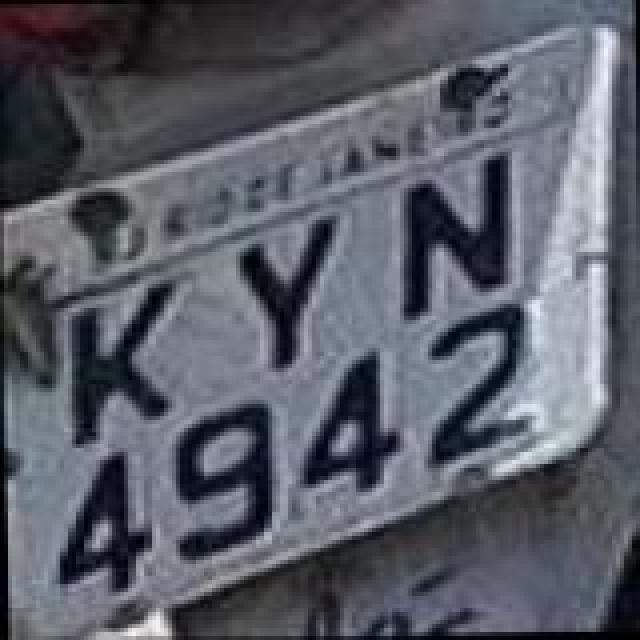2: (426, 306, 542, 470)
4: (294, 350, 402, 494), (52, 450, 156, 598)
9: (162, 398, 278, 562)
K: (64, 284, 180, 452)
N: (394, 154, 518, 326)
Y: (236, 218, 344, 370)
